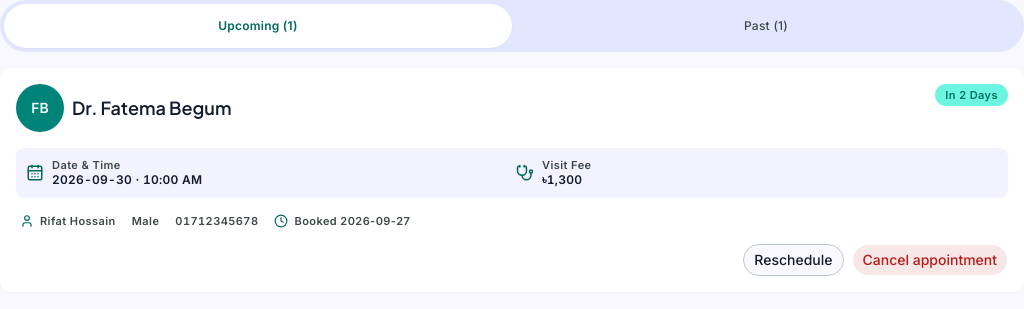
Test case: AppointmentsBrowser › switches to the Past tab and back
Click the tab "Past (1)" at [766, 26], box [512,4,1020,48]
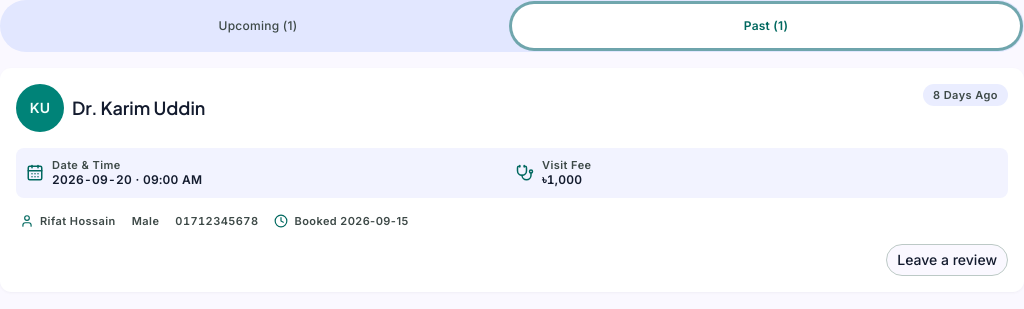
Now the link "Dr. Karim Uddin" is shown, box [72,96,205,118]
Click the tab "Upcoming (1)" at [258, 26], box [4,4,512,48]
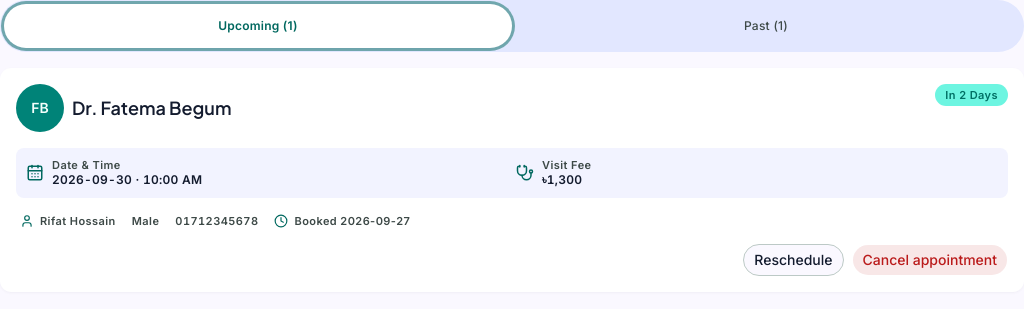
Now the panel named "upcoming appointments" is shown
